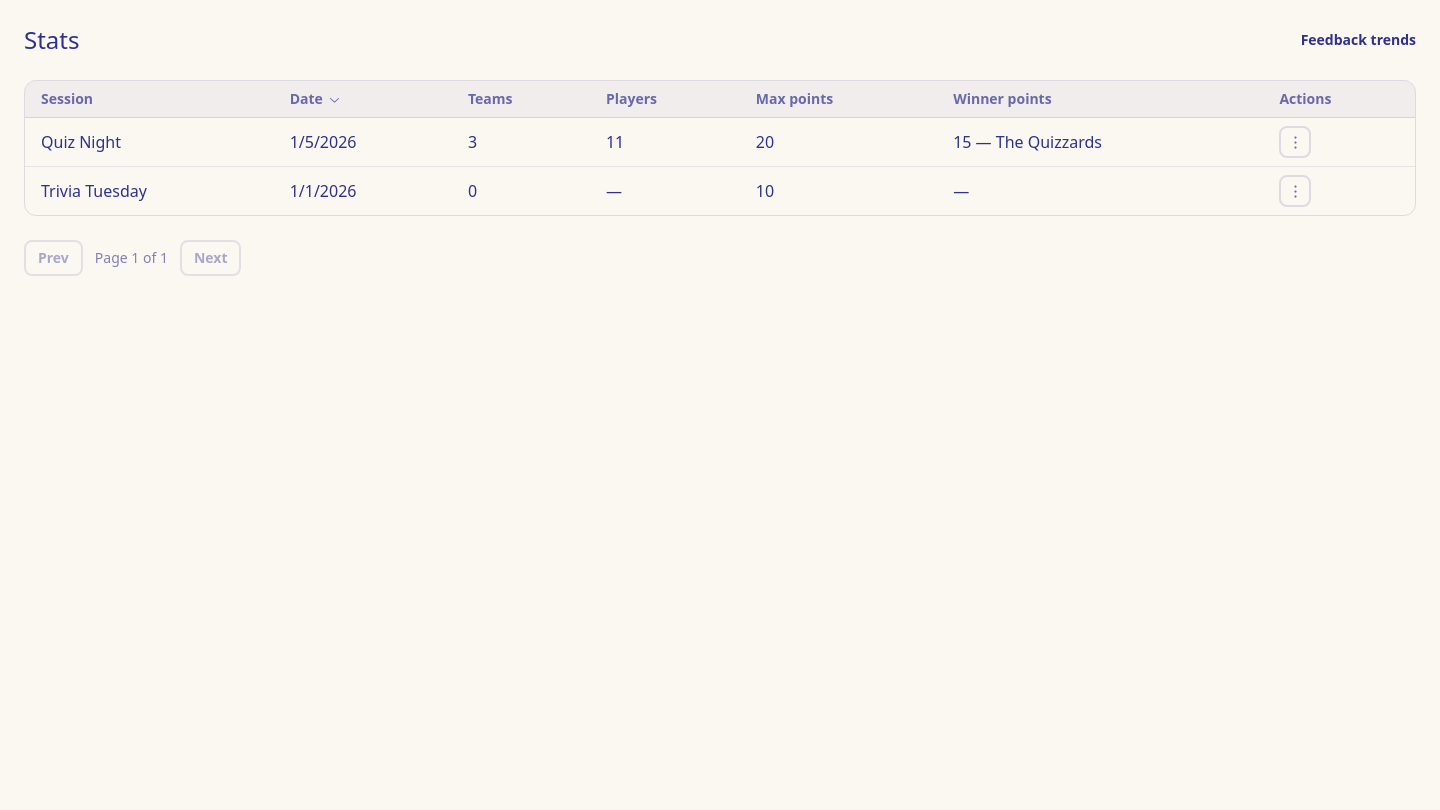
Test: PlayedSessionsPanel › rename session › shows an Edit action for an admin, prefilled with the current name
Expected: the link "Quiz Night" is shown, [41,131,121,153]
Click the button named "Actions for Quiz Night": [1295, 142] box [1279,126,1311,158]
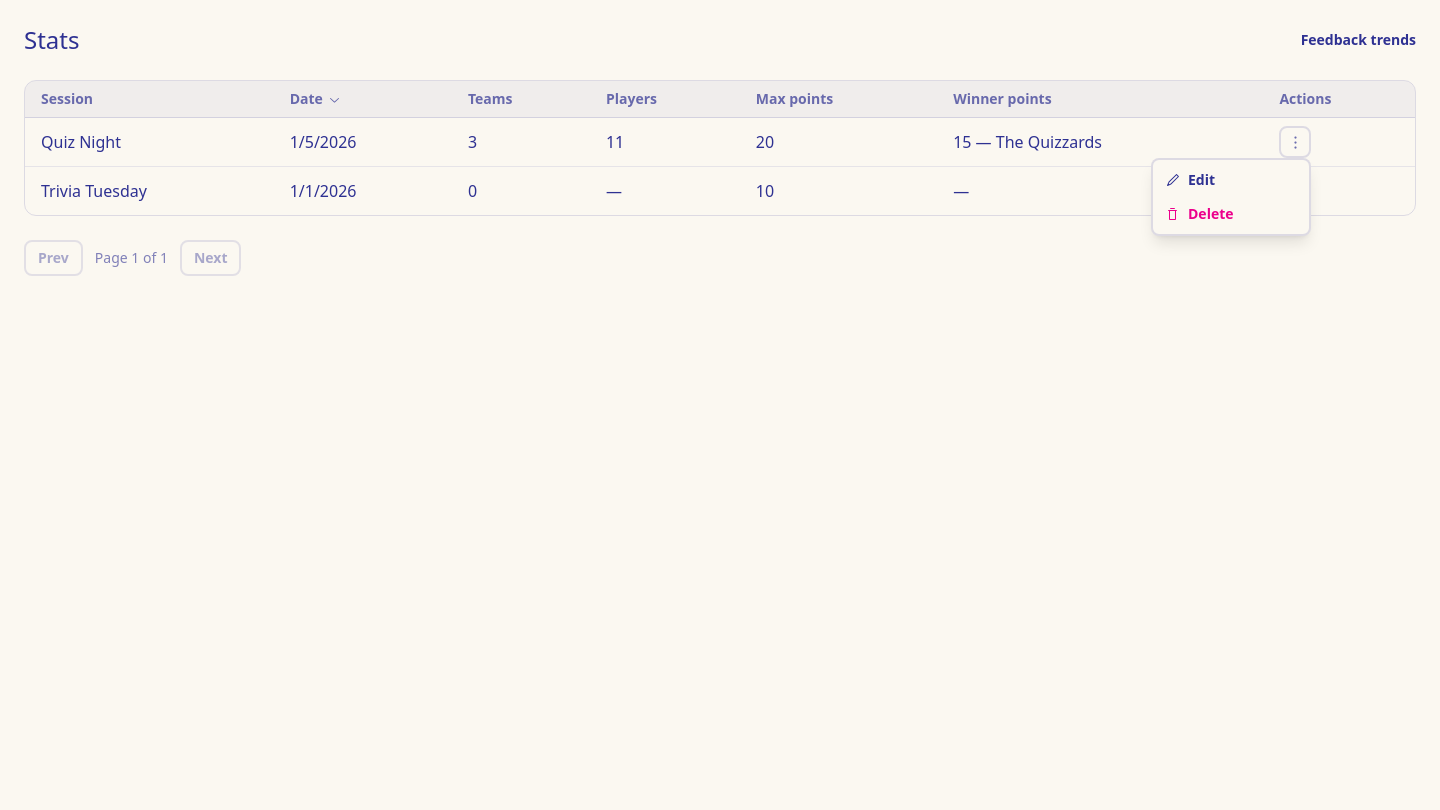
Click the menu item "Edit": [1190, 180] box [1165,170,1215,189]
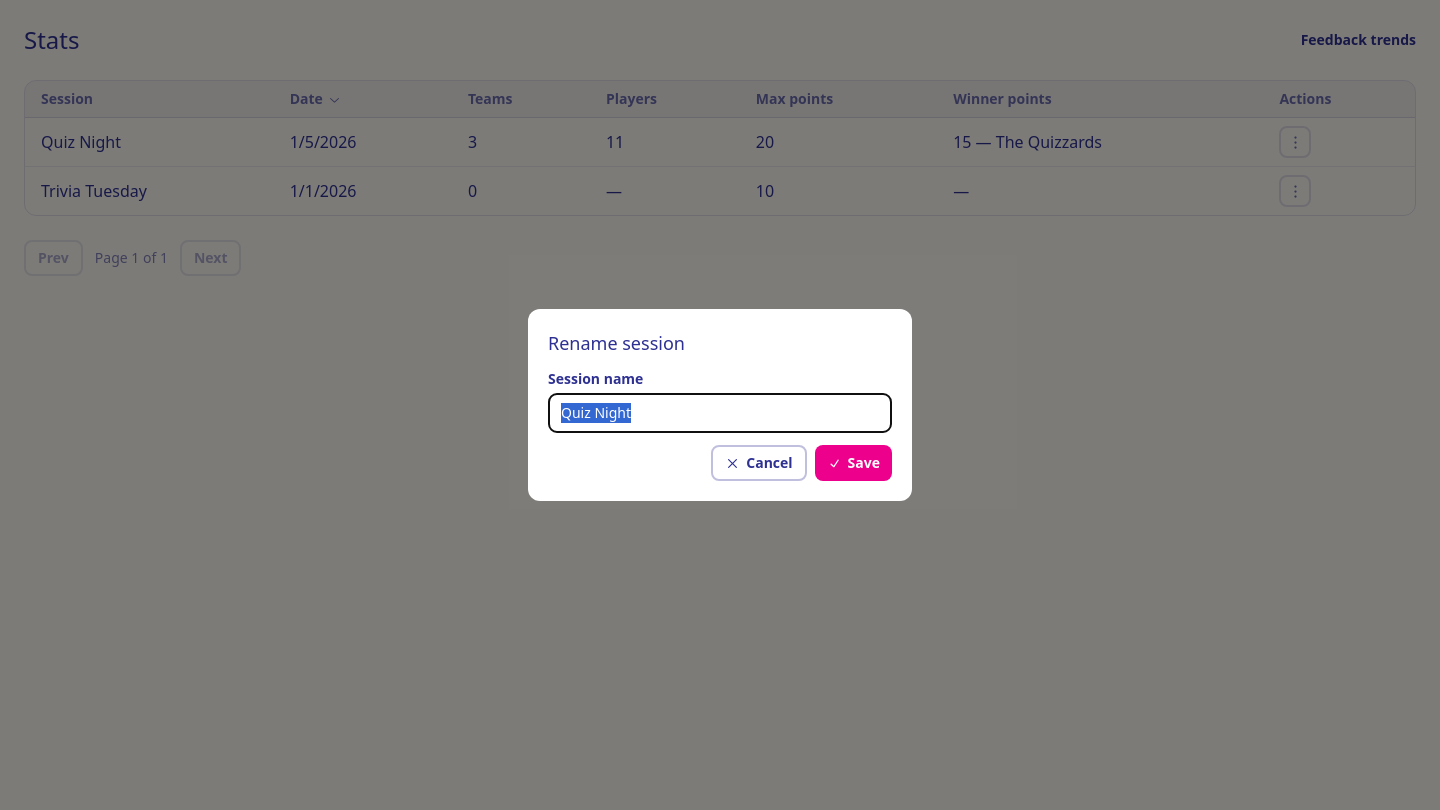
Expected: the heading "Rename session" is shown, [548,331,685,355]
Expected: the field showing "Quiz Night" is shown, [548,393,892,433]
